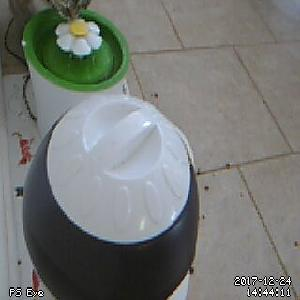cat: (6, 1, 94, 38)
fountain: (21, 7, 129, 93)
